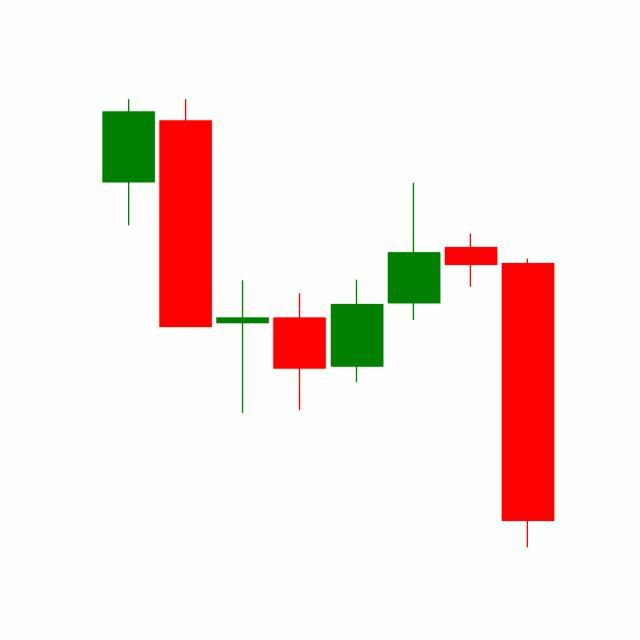Hikkake Pattern: (270, 179, 555, 549)
